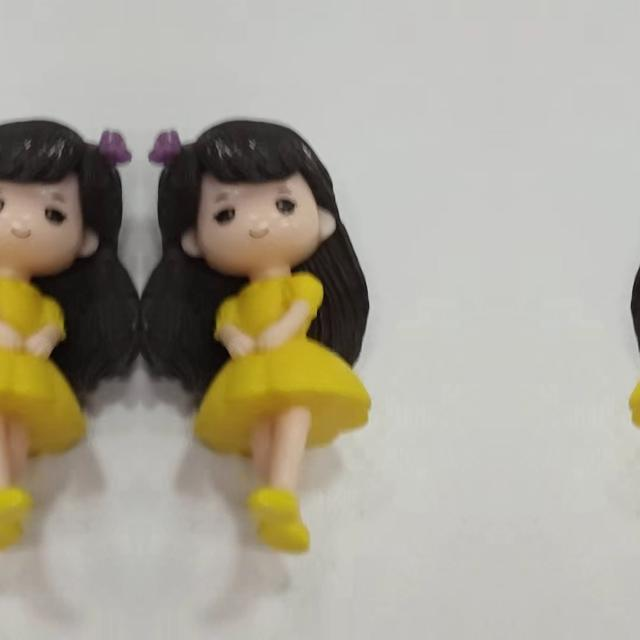woman dress: (191, 261, 379, 581), (0, 261, 89, 581), (621, 261, 640, 581)
woman head: (146, 109, 352, 271), (0, 109, 133, 271)
